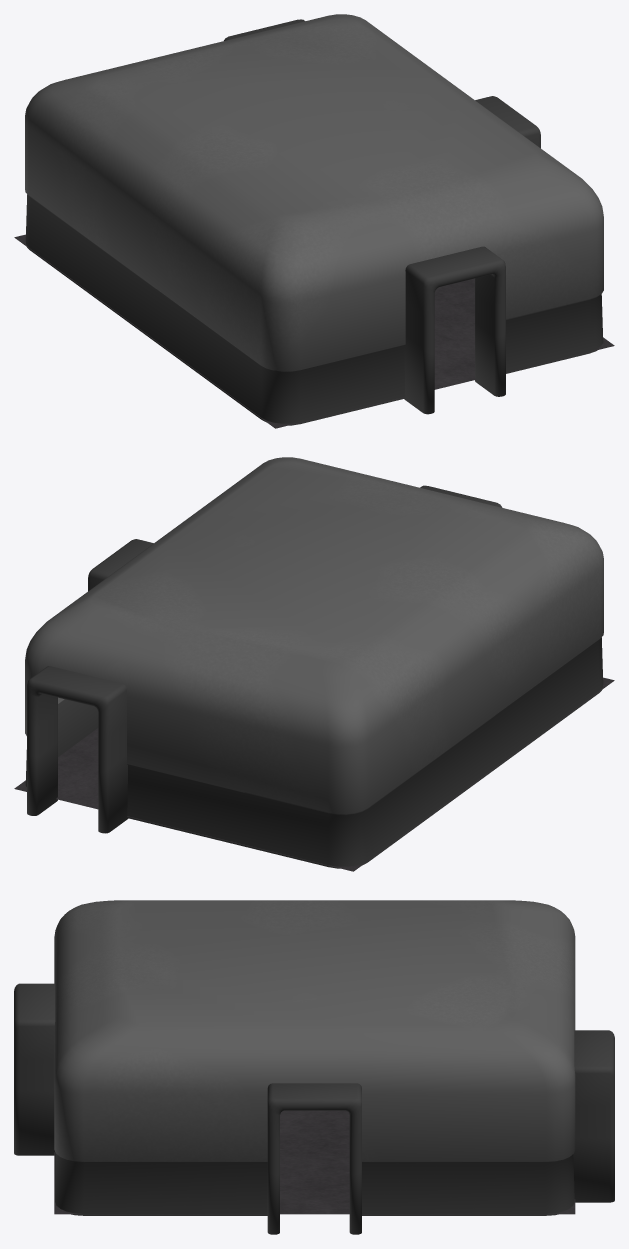
The model's file is RS_main.fbx.
3 views of the same model, one above another, from view 1: azimuth 30°, elevation 25°; view 2: azimuth 150°, elevation 25°; view 3: azimuth 270°, elevation 25° (orthographic).
Visible parts, largest first — view 1: RS_main; view 2: RS_main; view 3: RS_main.
Boxes of the visible parts, x1=… form: RS_main: x1=14, y1=14, x2=614, y2=428; RS_main: x1=14, y1=457, x2=614, y2=871; RS_main: x1=14, y1=900, x2=614, y2=1234.
Size of the model in its own units: 662 by 294 by 923.
